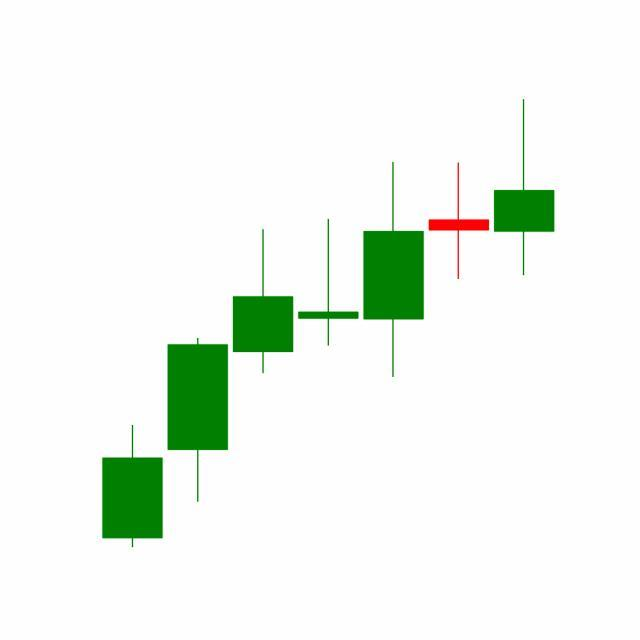Hikkake Pattern: (229, 100, 555, 383)
